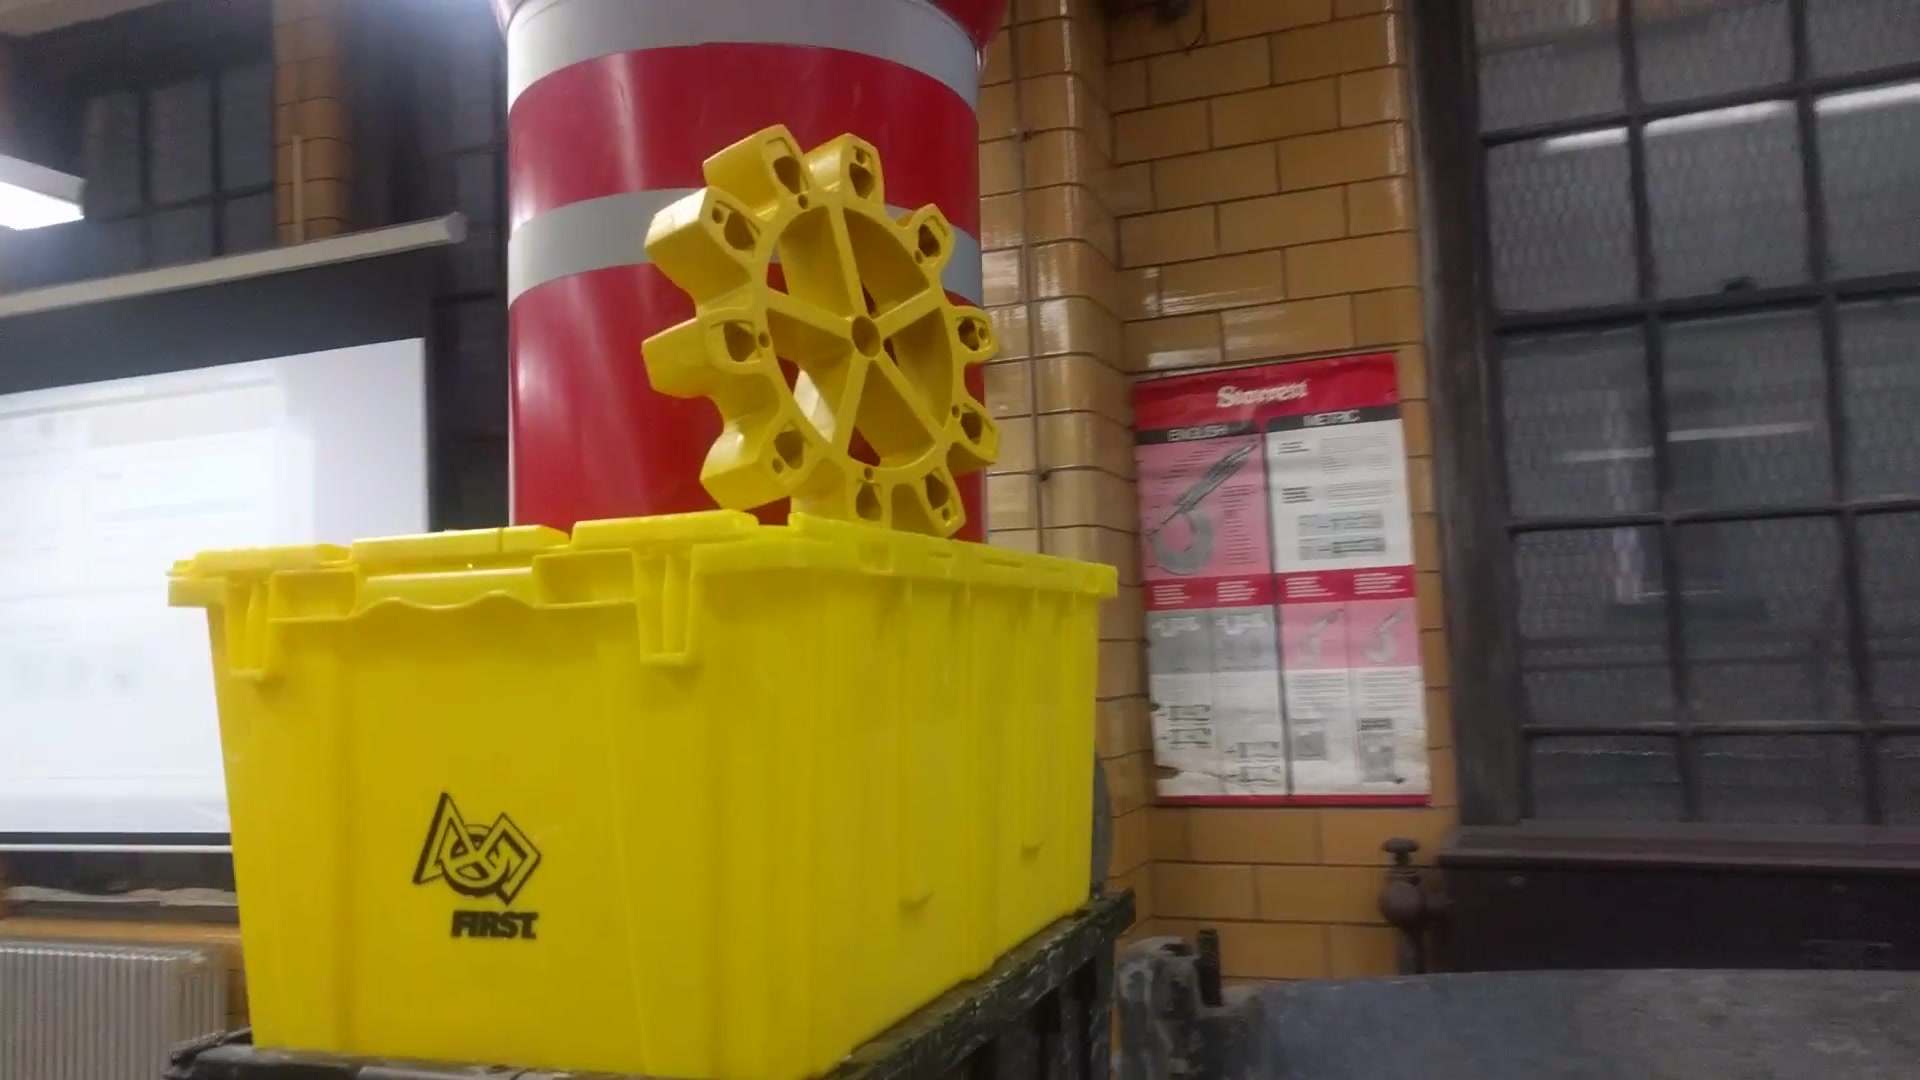gear: (632, 109, 1013, 550)
